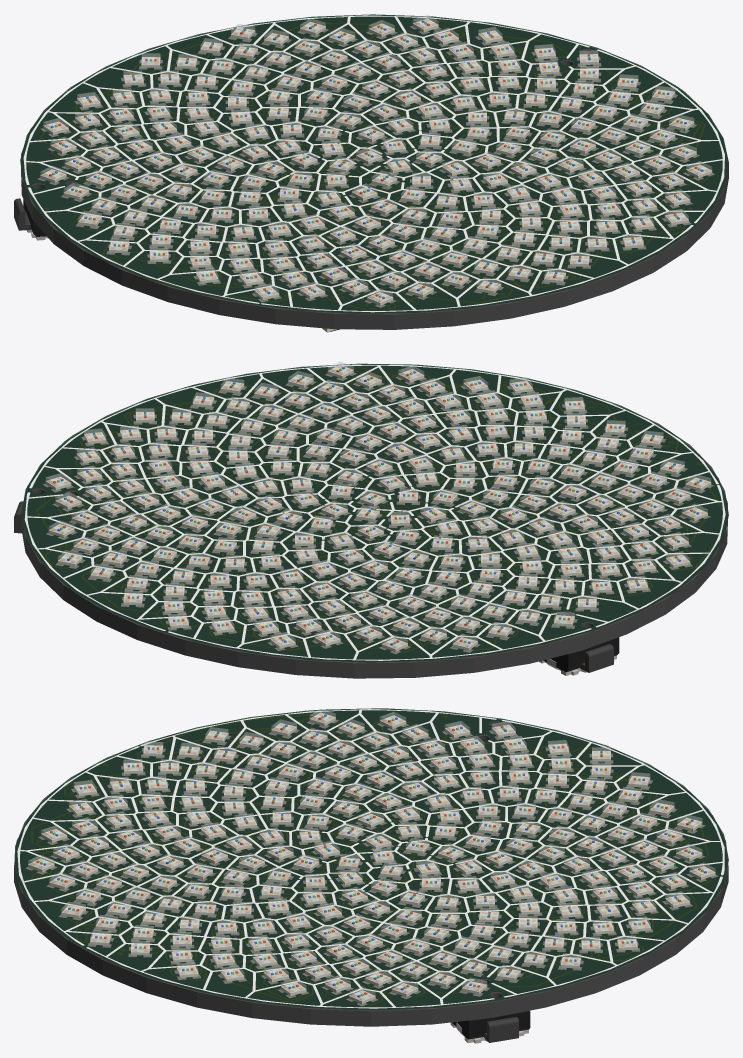
File: board.glb
3 views of the same model, one above another, from view 1: azimuth 30°, elevation 25°; view 2: azimuth 150°, elevation 25°; view 3: azimuth 270°, elevation 25° (orthographic).
Parts seen in each view (by area): view 1: round-pendant_soldermask, round-pendant_PCB, round-pendant_silkscreen, round-pendant_pad, round-pendant_copper, SW-SMD_EVQP7C01P-L3.6-W3.5-H1.4-P3.6-LS4.7; view 2: round-pendant_soldermask, round-pendant_PCB, round-pendant_silkscreen, round-pendant_pad, round-pendant_copper, SW-SMD_EVQP7C01P-L3.6-W3.5-H1.4-P3.6-LS4.7; view 3: round-pendant_soldermask, round-pendant_PCB, round-pendant_silkscreen, round-pendant_pad, round-pendant_copper, SW-SMD_EVQP7C01P-L3.6-W3.5-H1.4-P3.6-LS4.7.
Part boxes in pixels (left/top/right/bottom): round-pendant_soldermask: left=20, top=14, right=728, bottom=313; round-pendant_PCB: left=21, top=17, right=728, bottom=329; round-pendant_silkscreen: left=23, top=15, right=724, bottom=312; round-pendant_pad: left=37, top=26, right=714, bottom=307; round-pendant_copper: left=27, top=21, right=708, bottom=312; SW-SMD_EVQP7C01P-L3.6-W3.5-H1.4-P3.6-LS4.7: left=14, top=198, right=47, bottom=240; round-pendant_soldermask: left=21, top=363, right=728, bottom=662; round-pendant_PCB: left=21, top=366, right=727, bottom=678; round-pendant_silkscreen: left=24, top=364, right=725, bottom=660; round-pendant_pad: left=43, top=372, right=713, bottom=654; round-pendant_copper: left=36, top=367, right=721, bottom=651; SW-SMD_EVQP7C01P-L3.6-W3.5-H1.4-P3.6-LS4.7: left=539, top=637, right=619, bottom=675; round-pendant_soldermask: left=14, top=708, right=728, bottom=1010; round-pendant_PCB: left=14, top=711, right=728, bottom=1026; round-pendant_silkscreen: left=17, top=709, right=724, bottom=1008; round-pendant_pad: left=25, top=720, right=718, bottom=1006; round-pendant_copper: left=31, top=715, right=710, bottom=1004; SW-SMD_EVQP7C01P-L3.6-W3.5-H1.4-P3.6-LS4.7: left=450, top=1010, right=530, bottom=1043.
Size of the model in its own units: 0.038 by 0.00283 by 0.038.
